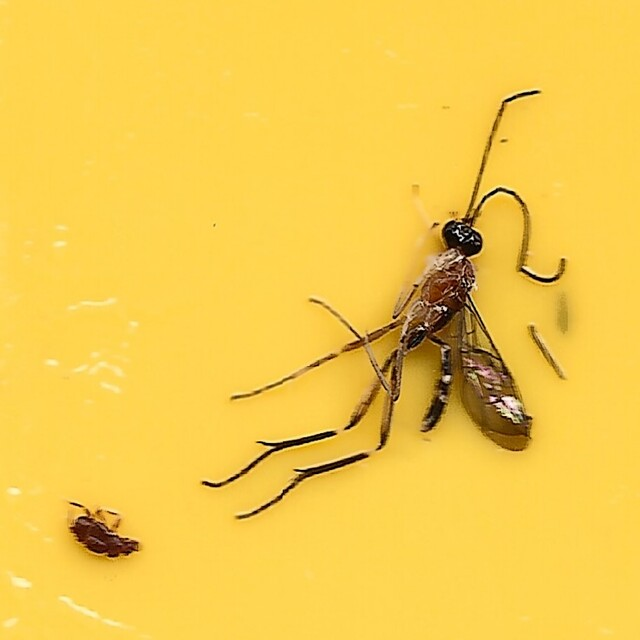Coleoptera: (70, 502, 145, 558)
Hymenoptera: (205, 82, 570, 526)
